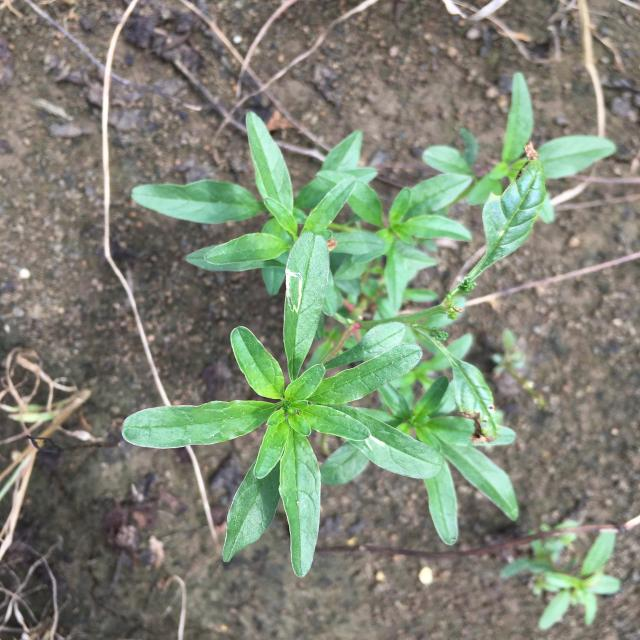Waterhemp: (121, 71, 617, 578)
